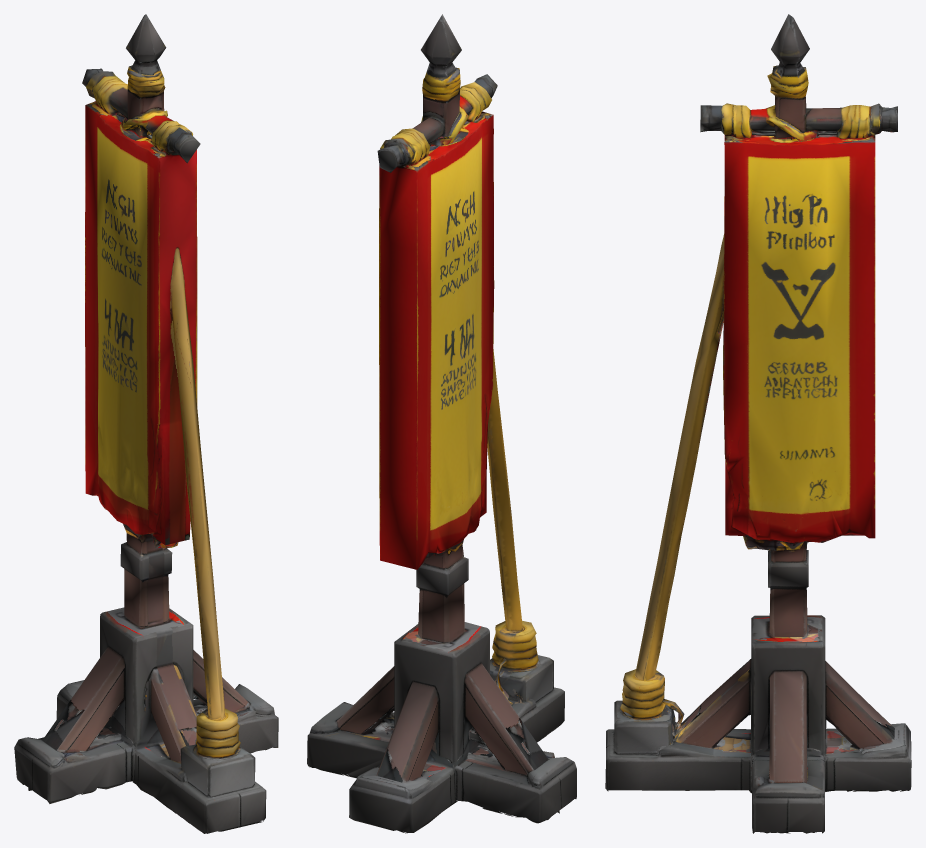
File: banner_flag.glb
3 views of the same model, side by side, from view 1: azimuth 30°, elevation 25°; view 2: azimuth 150°, elevation 25°; view 3: azimuth 270°, elevation 25° (orthographic). The views are drawn at different scales.
Parts seen in each view (by area): view 1: low; view 2: low; view 3: low.
Part boxes in pixels (x1,y1,x2,y2): low: (14, 14, 278, 833); low: (307, 14, 576, 833); low: (605, 14, 911, 833).
Size of the model in its own units: 0.3249 by 1.01 by 0.3651.
Materials: 1 (1 with a texture image).
